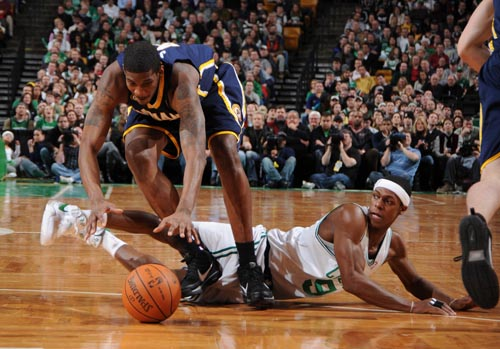10+: (1, 2, 493, 317)
down: (43, 184, 468, 316)
